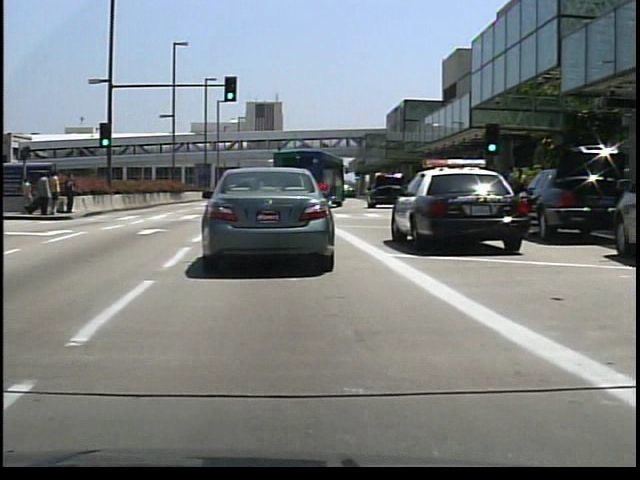person: (62, 170, 80, 215), (36, 171, 53, 216), (16, 173, 34, 214), (48, 169, 61, 217)
